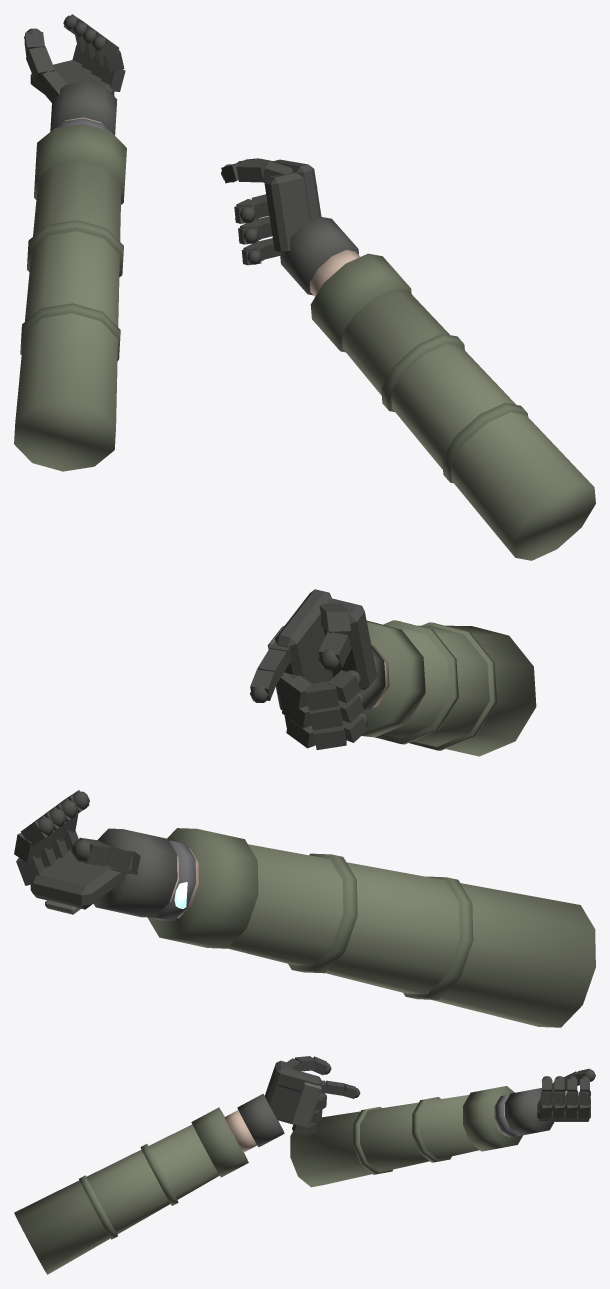
The model's file is hands_autocannon.glb.
The picture shows the model from 3 angles, top to bottom: view 1: azimuth 30°, elevation 25°; view 2: azimuth 150°, elevation 25°; view 3: azimuth 270°, elevation 25°; orthographic projection. The views are drawn at different scales.
Parts seen in each view (by area): view 1: Hands_autocannon, HandL; view 2: HandL, Hands_autocannon; view 3: Hands_autocannon, HandL.
Part boxes in pixels (x1=…): Hands_autocannon: x1=221, y1=158, x2=595, y2=560; HandL: x1=14, y1=14, x2=126, y2=471; HandL: x1=14, y1=790, x2=595, y2=1027; Hands_autocannon: x1=250, y1=589, x2=536, y2=756; Hands_autocannon: x1=14, y1=1056, x2=360, y2=1274; HandL: x1=290, y1=1068, x2=595, y2=1187.
Size of the model in its own units: 0.4433 by 0.3245 by 0.9219.
